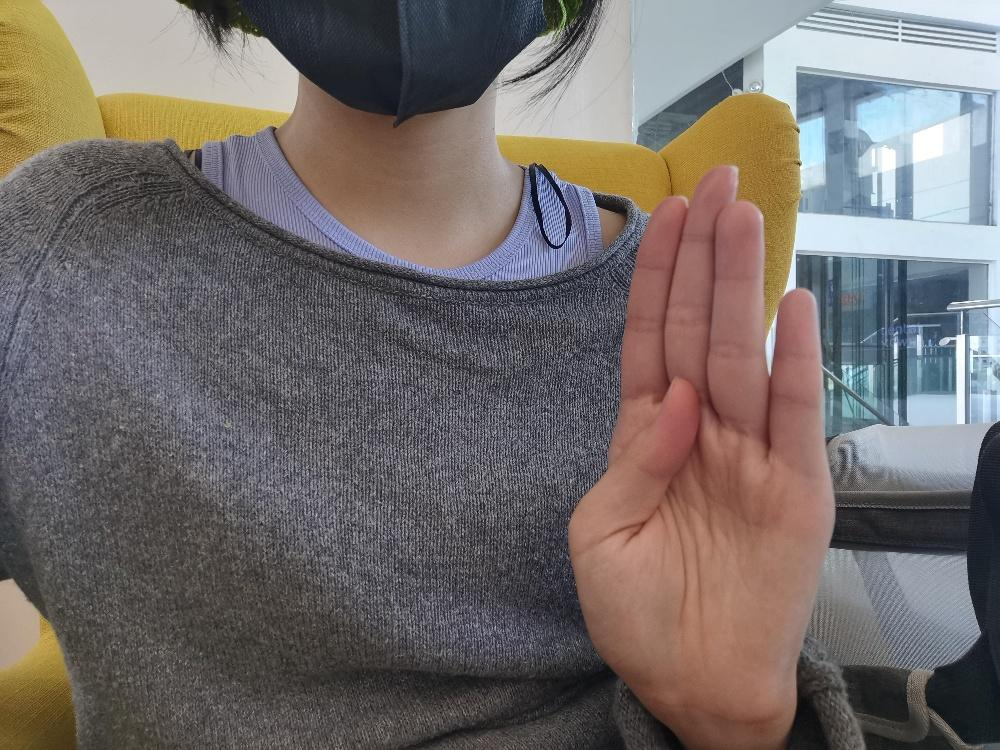b: (564, 158, 838, 731)
